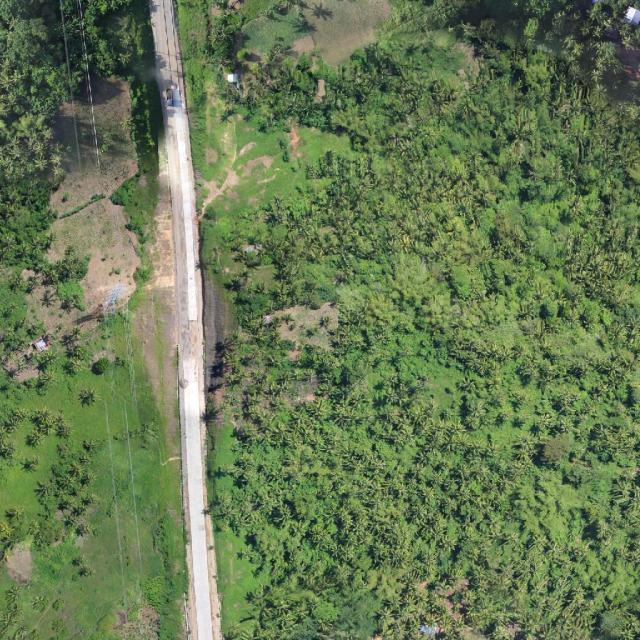greenland: (0, 308, 186, 639), (84, 0, 130, 75)
